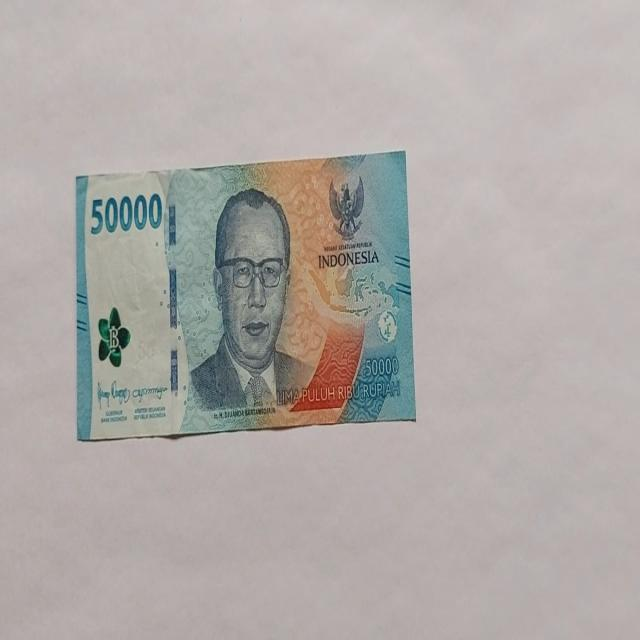lima puluh ribu rupiah: (74, 151, 416, 441), (184, 186, 316, 421)
